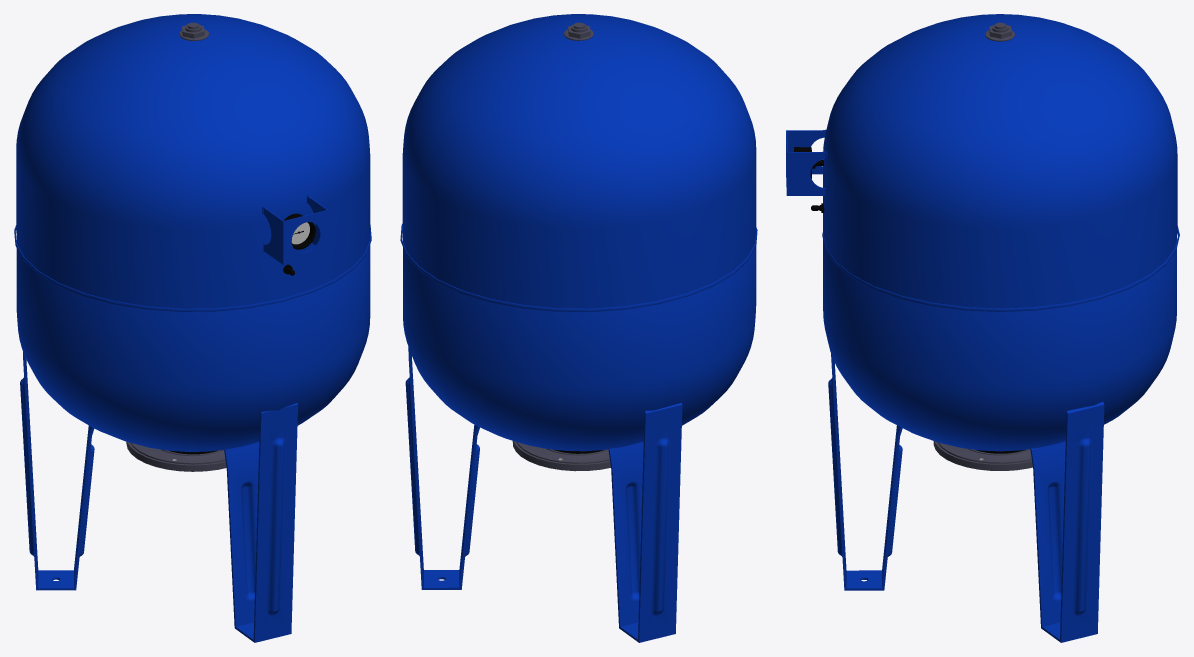
The model's file is 100lt-manometreli-dik-ayaklı.obj.
The picture shows the model from 3 angles, left to right: view 1: azimuth 30°, elevation 25°; view 2: azimuth 150°, elevation 25°; view 3: azimuth 270°, elevation 25°; orthographic projection.
Parts seen in each view (by area): view 1: 100lt-manometreli-dik-ayaklı.010, 100lt-manometreli-dik-ayaklı, 100lt-manometreli-dik-ayaklı.011, 100lt-manometreli-dik-ayaklı.002, 100lt-manometreli-dik-ayaklı.005, 100lt-manometreli-dik-ayaklı.012, 100lt-manometreli-dik-ayaklı.009, 100lt-manometreli-dik-ayaklı.007, 100lt-manometreli-dik-ayaklı.001; view 2: 100lt-manometreli-dik-ayaklı.010, 100lt-manometreli-dik-ayaklı, 100lt-manometreli-dik-ayaklı.002, 100lt-manometreli-dik-ayaklı.003, 100lt-manometreli-dik-ayaklı.012, 100lt-manometreli-dik-ayaklı.009, 100lt-manometreli-dik-ayaklı.007; view 3: 100lt-manometreli-dik-ayaklı.010, 100lt-manometreli-dik-ayaklı, 100lt-manometreli-dik-ayaklı.003, 100lt-manometreli-dik-ayaklı.011, 100lt-manometreli-dik-ayaklı.005, 100lt-manometreli-dik-ayaklı.012, 100lt-manometreli-dik-ayaklı.009, 100lt-manometreli-dik-ayaklı.007.
Part boxes in pixels (<box>): 100lt-manometreli-dik-ayaklı.010: <box>16,14,370,308</box>; 100lt-manometreli-dik-ayaklı: <box>16,238,370,451</box>; 100lt-manometreli-dik-ayaklı.011: <box>224,403,297,642</box>; 100lt-manometreli-dik-ayaklı.002: <box>20,352,94,590</box>; 100lt-manometreli-dik-ayaklı.005: <box>262,195,328,264</box>; 100lt-manometreli-dik-ayaklı.012: <box>14,225,371,311</box>; 100lt-manometreli-dik-ayaklı.009: <box>130,442,225,464</box>; 100lt-manometreli-dik-ayaklı.007: <box>126,441,226,471</box>; 100lt-manometreli-dik-ayaklı.001: <box>284,213,315,249</box>; 100lt-manometreli-dik-ayaklı.010: <box>402,14,756,308</box>; 100lt-manometreli-dik-ayaklı: <box>403,241,756,451</box>; 100lt-manometreli-dik-ayaklı.002: <box>608,403,682,642</box>; 100lt-manometreli-dik-ayaklı.003: <box>405,347,479,589</box>; 100lt-manometreli-dik-ayaklı.012: <box>400,223,757,311</box>; 100lt-manometreli-dik-ayaklı.009: <box>516,442,609,463</box>; 100lt-manometreli-dik-ayaklı.007: <box>512,441,610,471</box>; 100lt-manometreli-dik-ayaklı.010: <box>823,14,1177,308</box>; 100lt-manometreli-dik-ayaklı: <box>823,237,1176,451</box>; 100lt-manometreli-dik-ayaklı.003: <box>1030,402,1104,642</box>; 100lt-manometreli-dik-ayaklı.011: <box>828,354,902,590</box>; 100lt-manometreli-dik-ayaklı.005: <box>786,129,827,195</box>; 100lt-manometreli-dik-ayaklı.012: <box>822,226,1179,311</box>; 100lt-manometreli-dik-ayaklı.009: <box>937,442,1031,463</box>; 100lt-manometreli-dik-ayaklı.007: <box>933,441,1032,470</box>.
Size of the model in its own units: 37.38 by 64.07 by 41.15.
